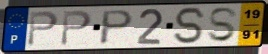2: (136, 7, 164, 46)
P: (97, 8, 136, 47), (59, 9, 94, 47), (26, 10, 61, 48)
S: (173, 6, 208, 46), (206, 6, 240, 44)
